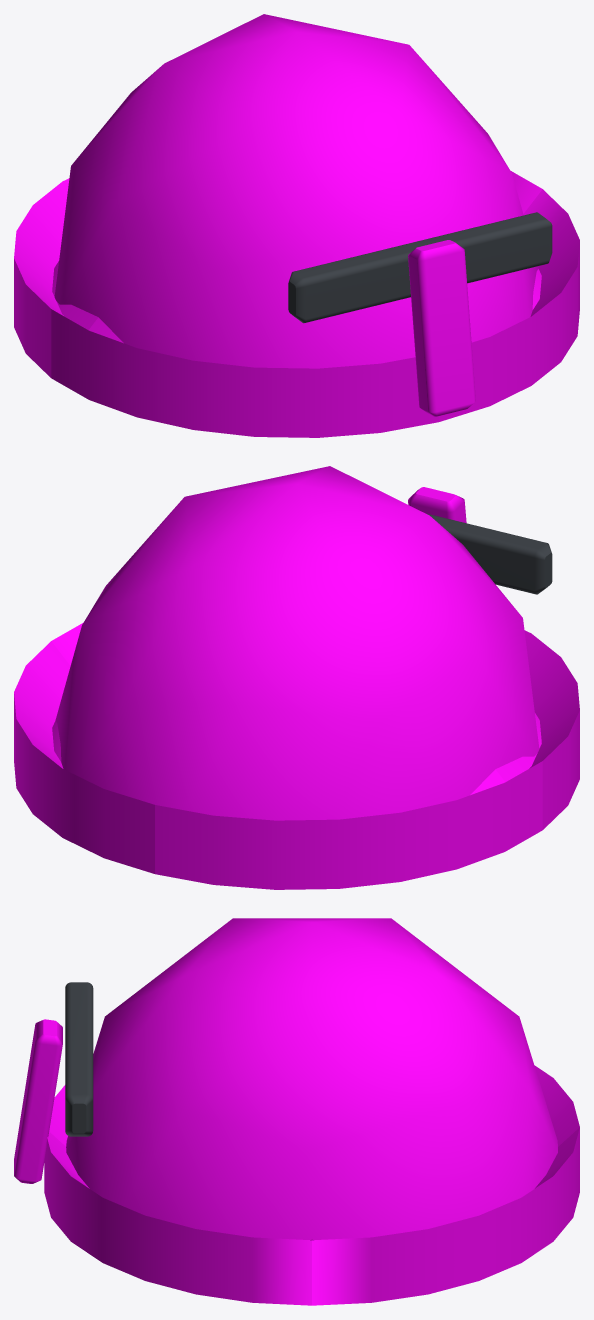
File: objet_armure2_casque.glb
The picture shows the model from 3 angles, top to bottom: view 1: azimuth 30°, elevation 25°; view 2: azimuth 150°, elevation 25°; view 3: azimuth 270°, elevation 25°; orthographic projection. The views are drawn at different scales.
Visible parts, largest first — view 1: casque_teinte.002, casque_teinte_sombre.002; view 2: casque_teinte.002, casque_teinte_sombre.002; view 3: casque_teinte.002, casque_teinte_sombre.002.
Part boxes in pixels (x1,y1,x2,y2): casque_teinte.002: (14, 14, 579, 437); casque_teinte_sombre.002: (288, 212, 552, 323); casque_teinte.002: (14, 466, 579, 889); casque_teinte_sombre.002: (426, 513, 552, 594); casque_teinte.002: (14, 918, 579, 1305); casque_teinte_sombre.002: (65, 982, 93, 1136).
Size of the model in its own units: 0.23 by 0.128 by 0.243.
